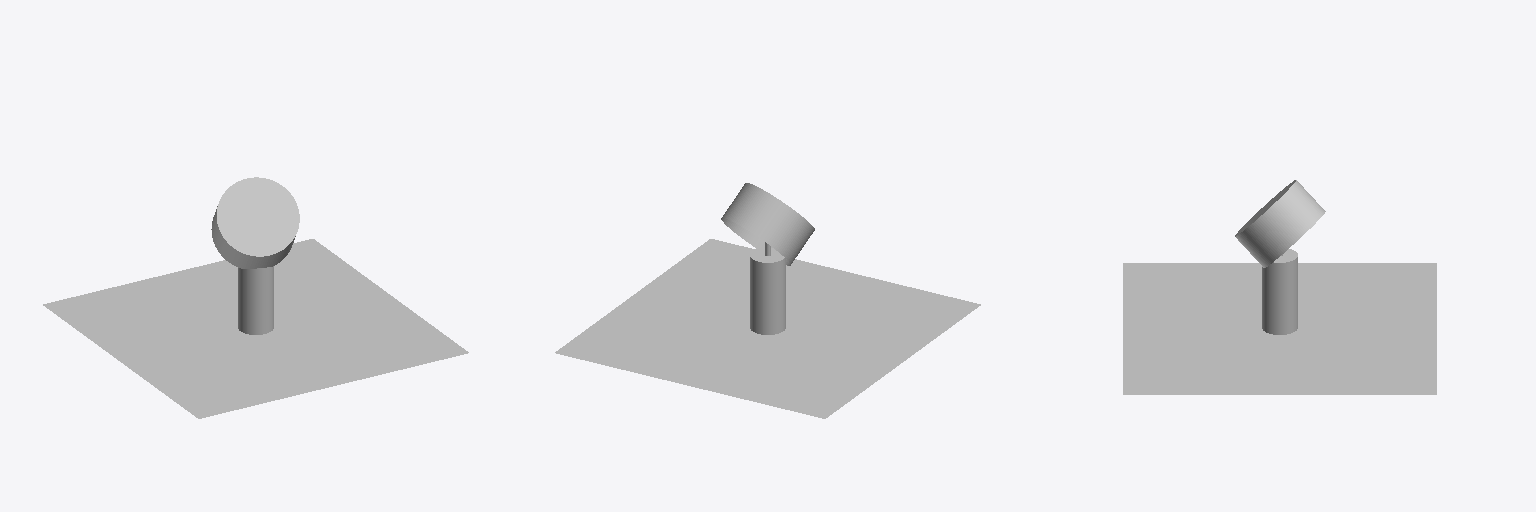
Rendered from lamp22.obj.
The picture shows the model from 3 angles: view 1: azimuth 30°, elevation 25°; view 2: azimuth 150°, elevation 25°; view 3: azimuth 270°, elevation 25°; orthographic projection.
Parts seen in each view (by area): view 1: Plane, Cylinder.002, Cylinder; view 2: Plane, Cylinder.002, Cylinder, Cylinder.001; view 3: Plane, Cylinder.002, Cylinder.
Part boxes in pixels (left/top/right/bottom): Plane: left=43, top=239, right=468, bottom=418; Cylinder.002: left=211, top=177, right=299, bottom=268; Cylinder: left=238, top=266, right=273, bottom=334; Plane: left=555, top=239, right=980, bottom=418; Cylinder.002: left=721, top=183, right=814, bottom=265; Cylinder: left=750, top=264, right=785, bottom=334; Cylinder.001: left=750, top=242, right=785, bottom=269; Plane: left=1123, top=263, right=1436, bottom=394; Cylinder.002: left=1235, top=180, right=1325, bottom=267; Cylinder: left=1262, top=264, right=1297, bottom=334.
Bounding box in the file's own units: 17.18 × 8.82 × 17.18.